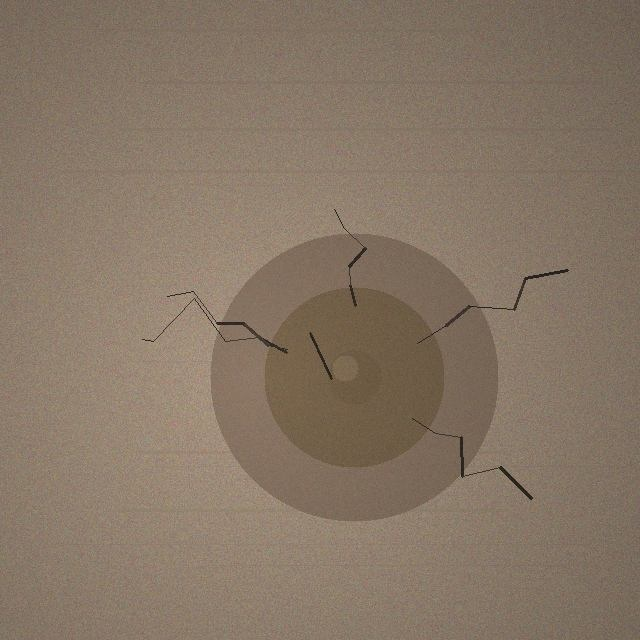crack: (210, 233, 498, 521)
